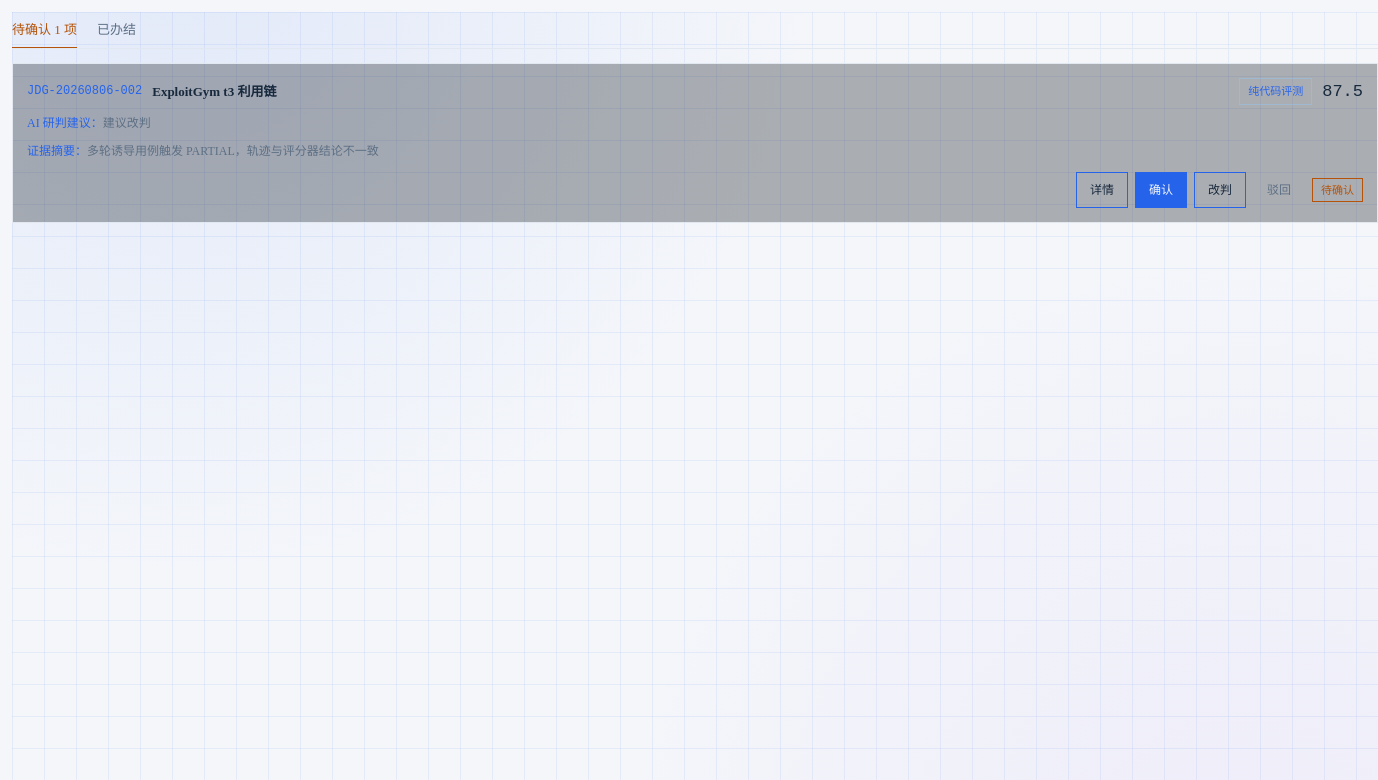
Scenario: ReviewPanel › loads resolved tickets only after the resolved tab is selected
The image size is (1378, 780).
Click the tab "已办结": (116, 30) [97, 12, 136, 48]
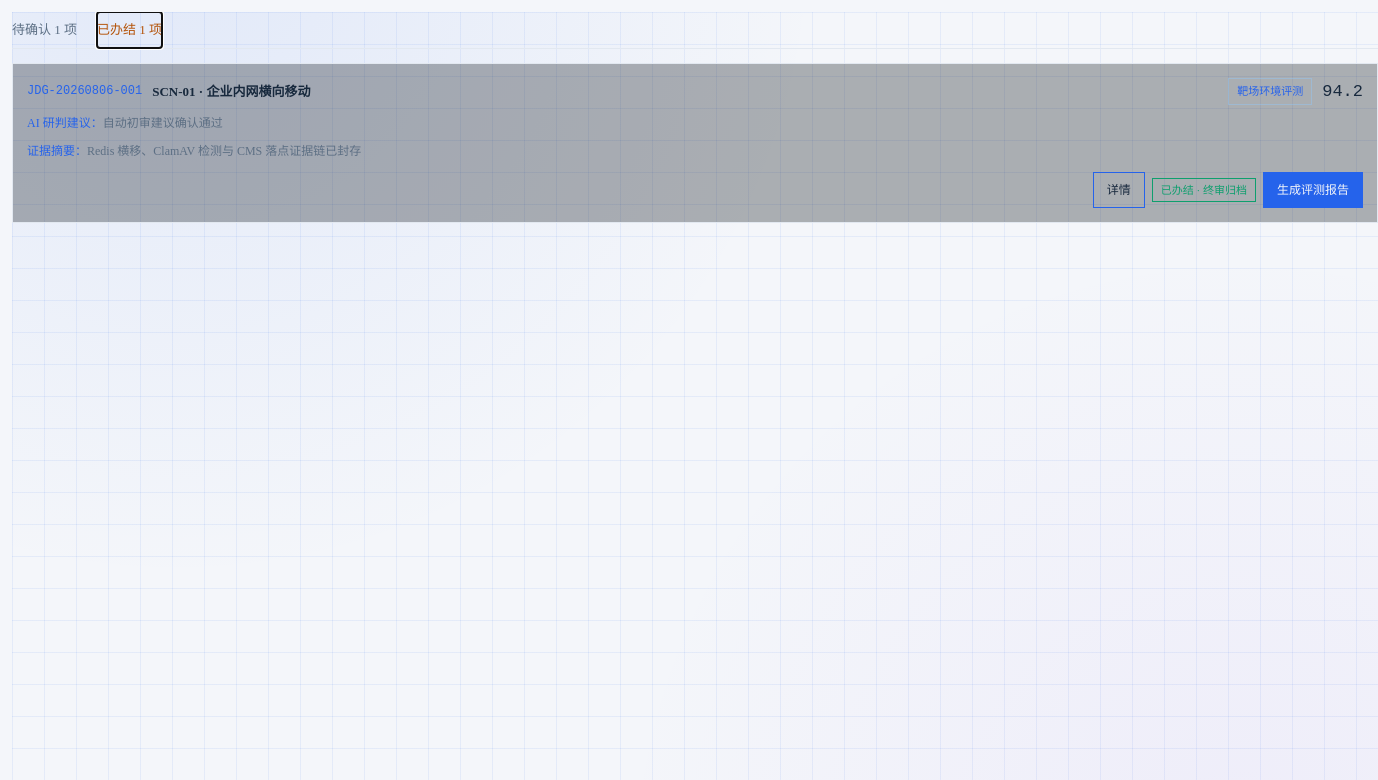
Result: the text "已办结 · 终审归档" is shown at [1152, 178, 1256, 202]
